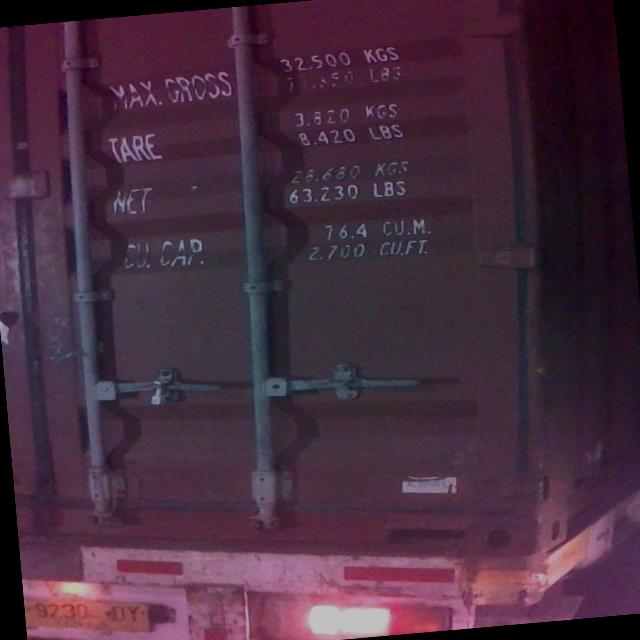seal: (146, 371, 175, 408)
